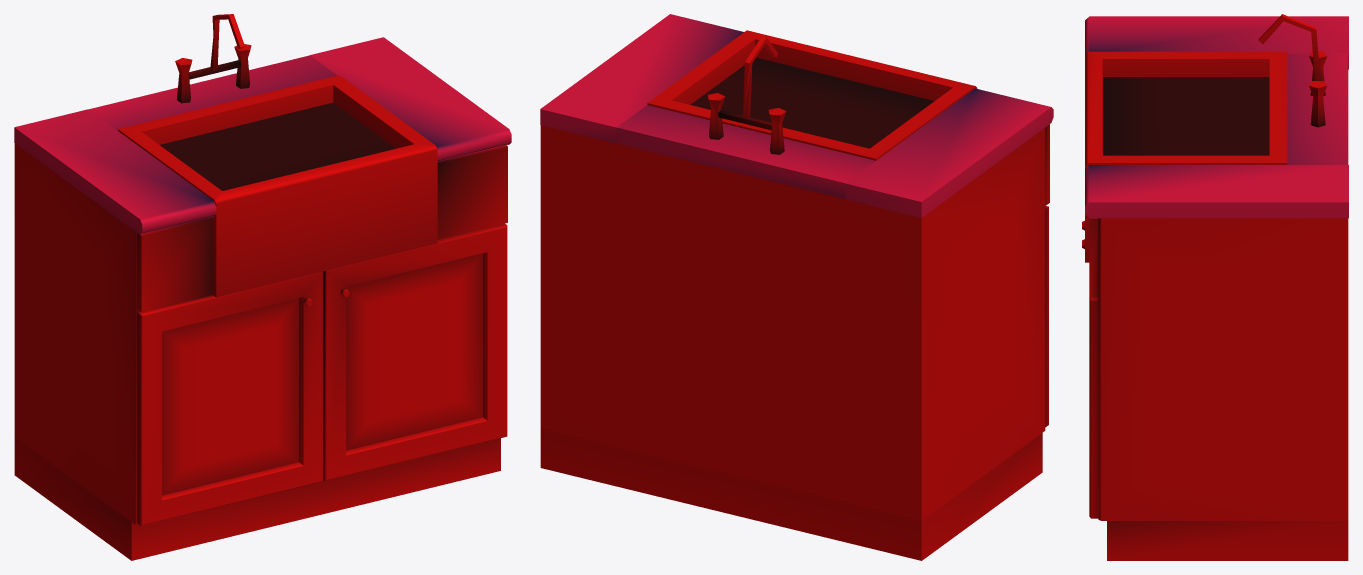
The model's file is CI_Kitchen_Base_Sink_1m.glb.
3 renders of one model, left to right at view 1: azimuth 30°, elevation 25°; view 2: azimuth 150°, elevation 25°; view 3: azimuth 270°, elevation 25°, orthographic. The views are drawn at different scales.
Visible parts, largest first — view 1: CI_Kitchen_Base_Sink_1m; view 2: CI_Kitchen_Base_Sink_1m; view 3: CI_Kitchen_Base_Sink_1m.
Part boxes in pixels (left/top/right/bottom): CI_Kitchen_Base_Sink_1m: left=14, top=14, right=511, bottom=560; CI_Kitchen_Base_Sink_1m: left=540, top=14, right=1053, bottom=560; CI_Kitchen_Base_Sink_1m: left=1082, top=14, right=1348, bottom=560.
Size of the model in its own units: 1 by 1.14 by 0.6068.
